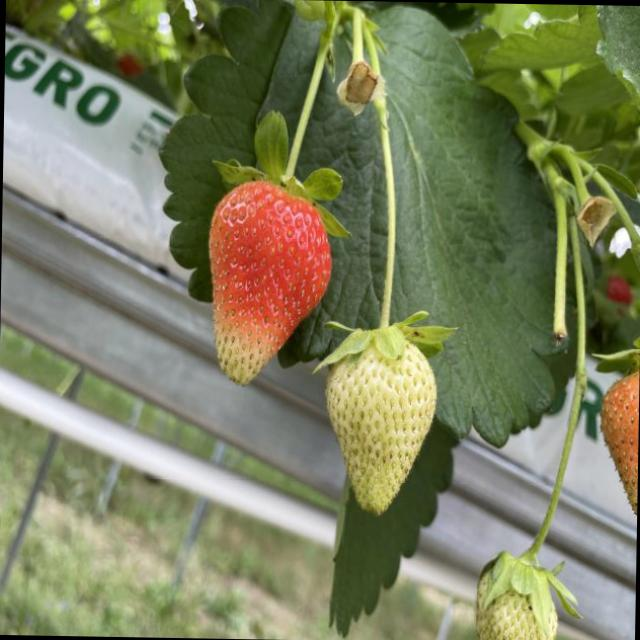stem: (317, 74, 456, 370), (213, 21, 348, 236)
strawberryNR: (325, 342, 437, 513)
strawberryR: (209, 181, 331, 383)
